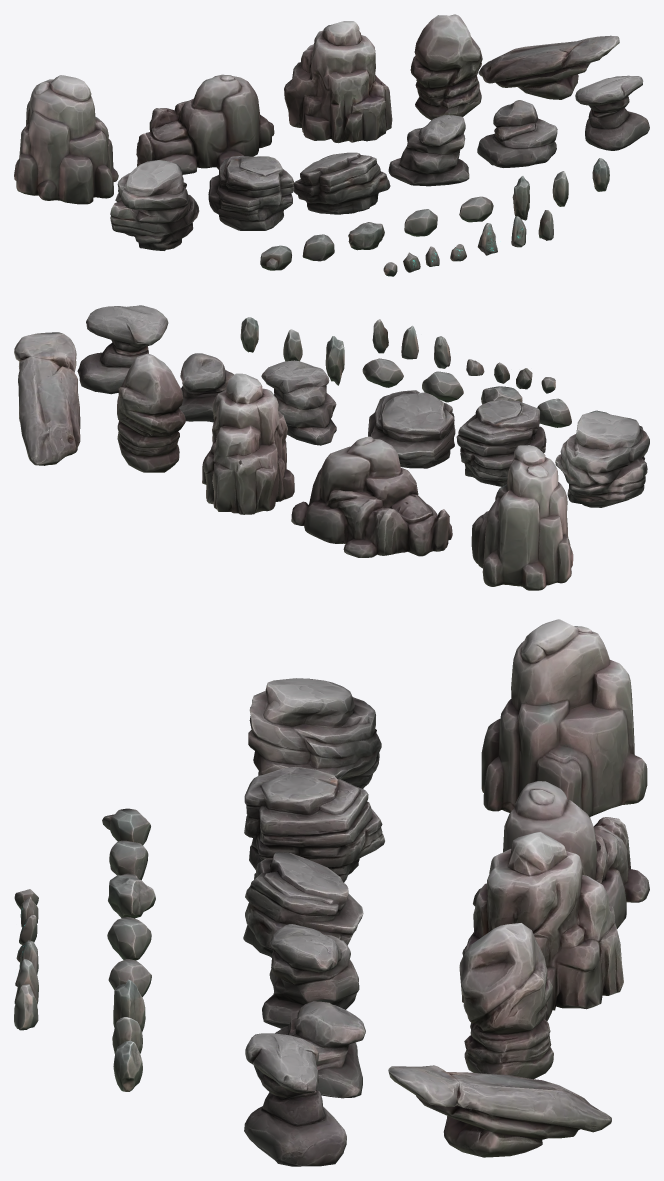
File: stones.glb
3 renders of one model, top to bottom at view 1: azimuth 30°, elevation 25°; view 2: azimuth 150°, elevation 25°; view 3: azimuth 270°, elevation 25°, orthographic. The views are drawn at different scales.
Visible parts, largest first — view 1: BIG_1_BiG_0, Big_3_BiG_0, Big_2_BiG_0, Mid_4_MID_0 (×2), Mid_1_MID_0, Big_4_BiG_0, Mid_2_MID_0, Big_5_BiG_0, Mid_3_MID_0, Mid_5_MID_0, Small_3_SMall_0, Small_4_SMall_0 (+9 smaller); view 2: Big_2_BiG_0, BIG_1_BiG_0, Big_3_BiG_0, Big_5_BiG_0, Mid_1_MID_0, Mid_4_MID_0 (×2), Big_4_BiG_0, Mid_3_MID_0, Mid_2_MID_0, Mid_5_MID_0, Small_4_SMall_0, Small_5_SMall_0 (+8 smaller); view 3: BIG_1_BiG_0, Big_3_BiG_0, Big_5_BiG_0, Big_4_BiG_0, Mid_4_MID_0 (×2), Mid_2_MID_0, Mid_1_MID_0, Mid_5_MID_0, Big_2_BiG_0, Mid_3_MID_0, Small_3_SMall_0, Small_4_SMall_0 (+6 smaller).
Part boxes in pixels (box(x1,y1,x2,y2)): BIG_1_BiG_0: box(14, 75, 118, 204); Big_3_BiG_0: box(284, 21, 392, 143); Big_2_BiG_0: box(136, 74, 274, 174); Mid_4_MID_0 (×2): box(388, 100, 557, 186); Mid_1_MID_0: box(110, 160, 199, 250); Big_4_BiG_0: box(410, 14, 482, 120); Mid_2_MID_0: box(208, 156, 294, 230); Big_5_BiG_0: box(478, 35, 619, 99); Mid_3_MID_0: box(293, 152, 390, 214); Mid_5_MID_0: box(575, 75, 649, 150); Small_3_SMall_0: box(348, 222, 384, 250); Small_4_SMall_0: box(404, 209, 437, 236); Big_2_BiG_0: box(291, 436, 452, 557); BIG_1_BiG_0: box(471, 445, 573, 590); Big_3_BiG_0: box(202, 373, 294, 514); Big_5_BiG_0: box(14, 332, 80, 465); Mid_1_MID_0: box(555, 412, 649, 507); Mid_4_MID_0 (×2): box(179, 353, 336, 445); Big_4_BiG_0: box(117, 353, 185, 472); Mid_3_MID_0: box(368, 390, 455, 468); Mid_2_MID_0: box(456, 400, 546, 486); Mid_5_MID_0: box(77, 305, 168, 394); Small_4_SMall_0: box(422, 371, 463, 402); Small_5_SMall_0: box(362, 358, 403, 387); BIG_1_BiG_0: box(481, 619, 647, 817); Big_3_BiG_0: box(462, 831, 623, 1021); Big_5_BiG_0: box(388, 1065, 611, 1157); Big_4_BiG_0: box(459, 923, 553, 1079); Mid_4_MID_0 (×2): box(254, 924, 365, 1098); Mid_2_MID_0: box(244, 766, 384, 882); Mid_1_MID_0: box(248, 678, 381, 788); Mid_5_MID_0: box(244, 1033, 346, 1166); Big_2_BiG_0: box(473, 781, 649, 928); Mid_3_MID_0: box(243, 852, 363, 957); Small_3_SMall_0: box(108, 873, 155, 918); Small_4_SMall_0: box(107, 917, 151, 960).
Size of the model in its own units: 29.57 by 6.14 by 18.98.
6 materials, 6 textured.
